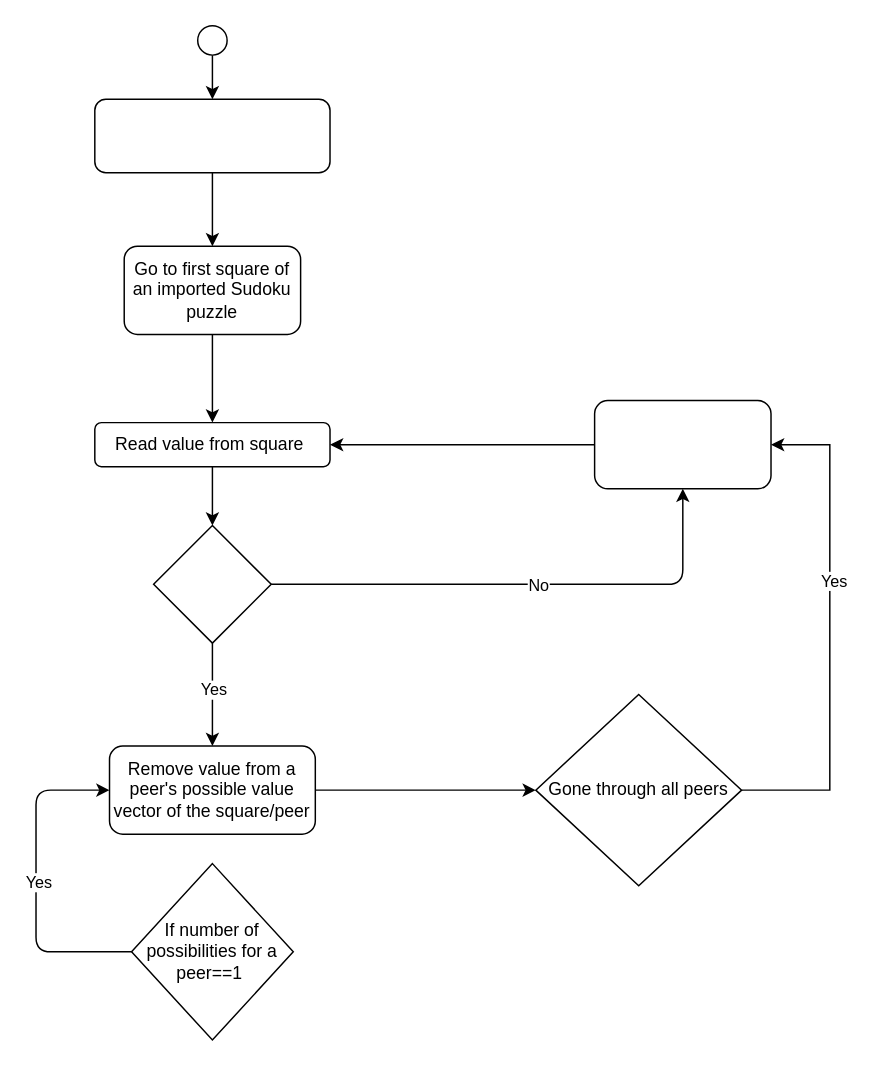
Some shapes in this 872 by 1066 pixel diagram are drawn without their labels. The centre of each missing label's shape, as x and y in pixels:
"Create 9x9 array of squares" goes at point (211, 135).
"Go to next square" goes at point (682, 444).
"If value != null" goes at point (211, 583).
